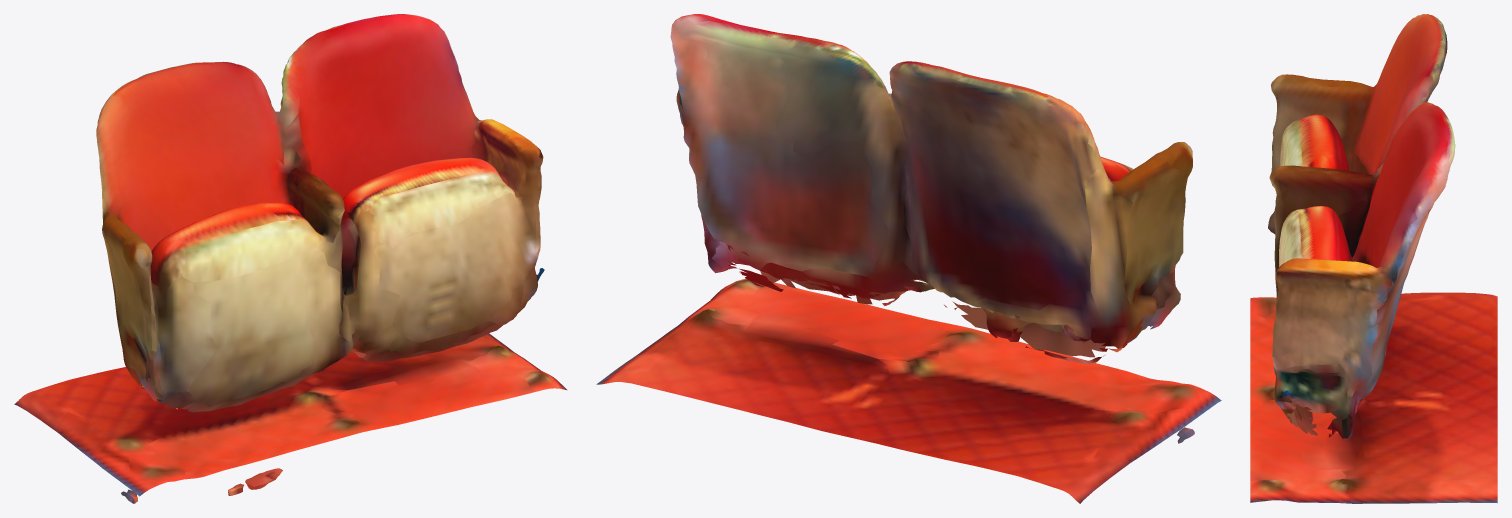
The model's file is 70s_old_cinema_seats.glb.
The picture shows the model from 3 angles, left to right: view 1: azimuth 30°, elevation 25°; view 2: azimuth 150°, elevation 25°; view 3: azimuth 270°, elevation 25°; orthographic projection. The views are drawn at different scales.
Parts seen in each view (by area): view 1: Object_2; view 2: Object_2; view 3: Object_2.
Boxes of the visible parts, x1,y1,x2,y2 form: Object_2: (14, 14, 567, 503); Object_2: (596, 14, 1221, 503); Object_2: (1250, 14, 1497, 503).
Size of the model in its own units: 1.16 by 0.9244 by 0.5895.
1 material, 1 textured.
